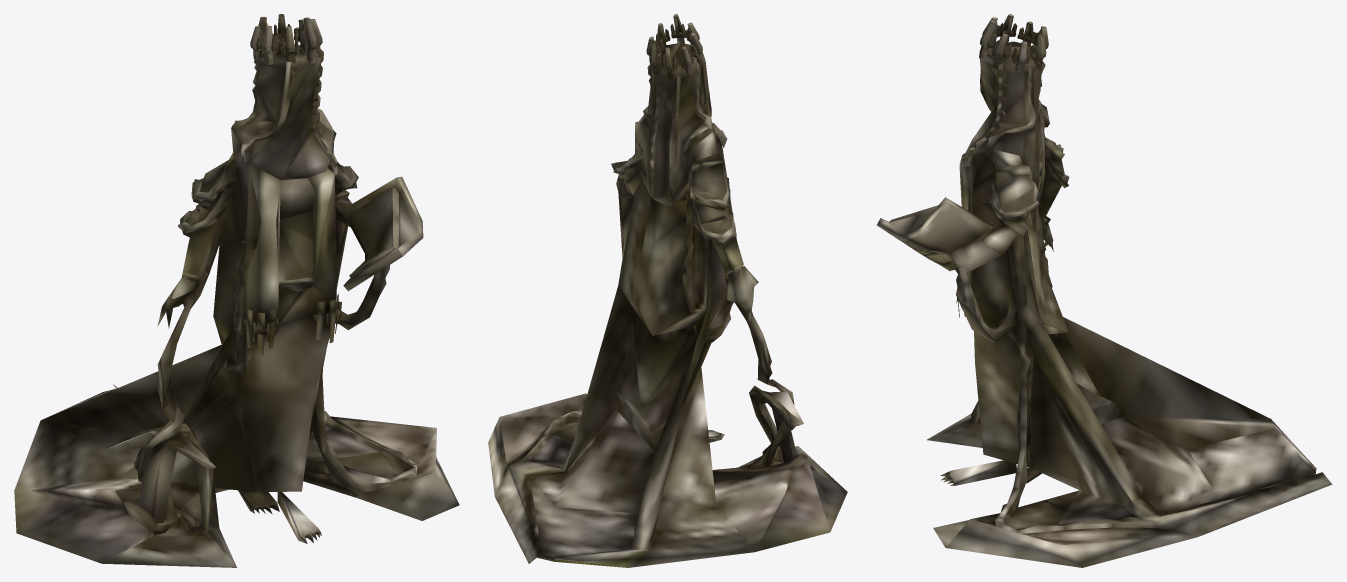
The model's file is design-gothic-statue.glb.
The picture shows the model from 3 angles, left to right: view 1: azimuth 30°, elevation 25°; view 2: azimuth 150°, elevation 25°; view 3: azimuth 270°, elevation 25°; orthographic projection. The views are drawn at different scales.
Parts seen in each view (by area): view 1: gothic_statue; view 2: gothic_statue; view 3: gothic_statue.
Part boxes in pixels (x1=…): gothic_statue: x1=14, y1=14, x2=459, y2=567; gothic_statue: x1=488, y1=14, x2=847, y2=567; gothic_statue: x1=877, y1=14, x2=1332, y2=567.
Bounding box in the file's own units: 1.46 × 1.73 × 1.52.
Materials: 1 (1 with a texture image).
